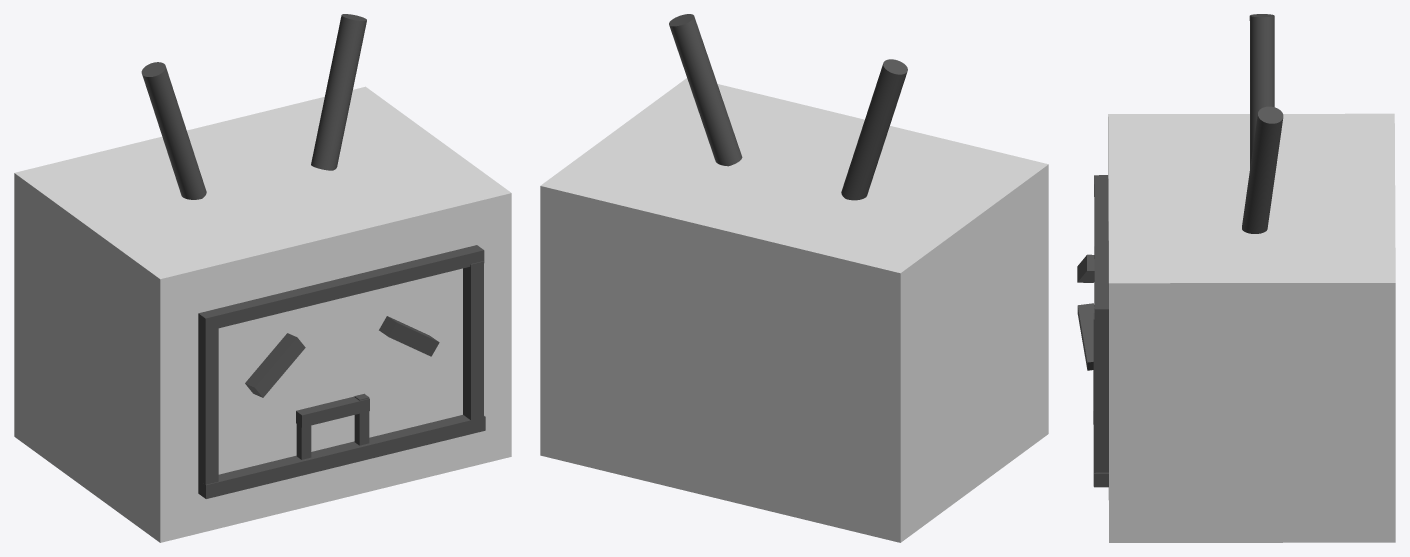
Rendered from 3Dbilibili1.0.glb.
3 views of the same model, side by side, from view 1: azimuth 30°, elevation 25°; view 2: azimuth 150°, elevation 25°; view 3: azimuth 270°, elevation 25° (orthographic). The views are drawn at different scales.
Parts seen in each view (by area): view 1: mesh_id44, mesh_id80, mesh_id78, mesh_id46, mesh_id48, mesh_id64, mesh_id73, mesh_id93, mesh_id111, mesh_id104, mesh_id109; view 2: mesh_id44, mesh_id46, mesh_id48; view 3: mesh_id44, mesh_id46, mesh_id48, mesh_id73, mesh_id78, mesh_id104, mesh_id93.
Part boxes in pixels (x1,y1,x2,y2): mesh_id44: (14,86,511,542); mesh_id80: (198,415,485,498); mesh_id78: (198,245,484,331); mesh_id46: (311,14,366,170); mesh_id48: (141,62,206,199); mesh_id64: (198,324,218,484); mesh_id73: (463,261,483,420); mesh_id93: (245,333,305,397); mesh_id111: (296,396,369,427); mesh_id104: (379,316,439,356); mesh_id109: (296,413,311,459); mesh_id44: (540,78,1048,542); mesh_id46: (669,14,742,166); mesh_id48: (841,59,907,200); mesh_id44: (1108,113,1395,542); mesh_id46: (1242,106,1283,233); mesh_id48: (1249,14,1274,168); mesh_id73: (1093,313,1108,472); mesh_id78: (1094,175,1108,321); mesh_id104: (1077,303,1094,370); mesh_id93: (1077,254,1094,282).
Size of the model in its own units: 0.3803 by 0.44 by 0.302.
Materials: 10 (10 with a texture image).
